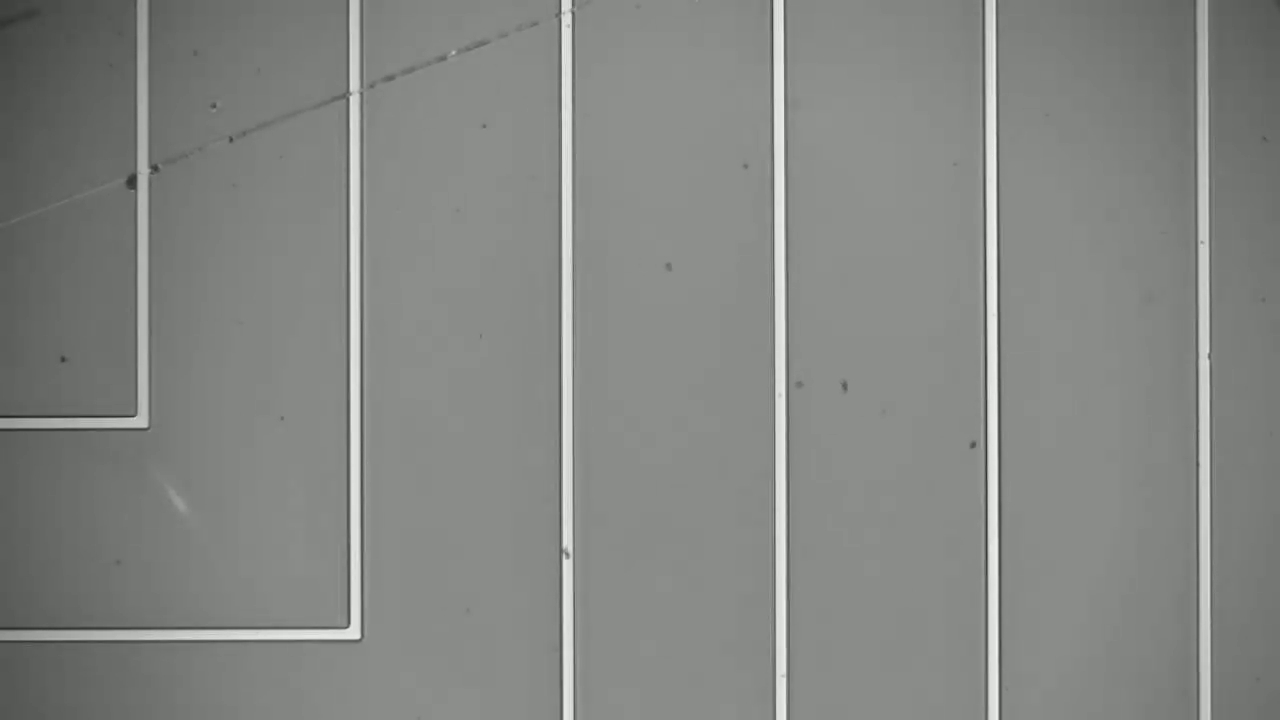scratch: (25, 12, 556, 216)
stains_enbedded: (554, 536, 585, 569)
